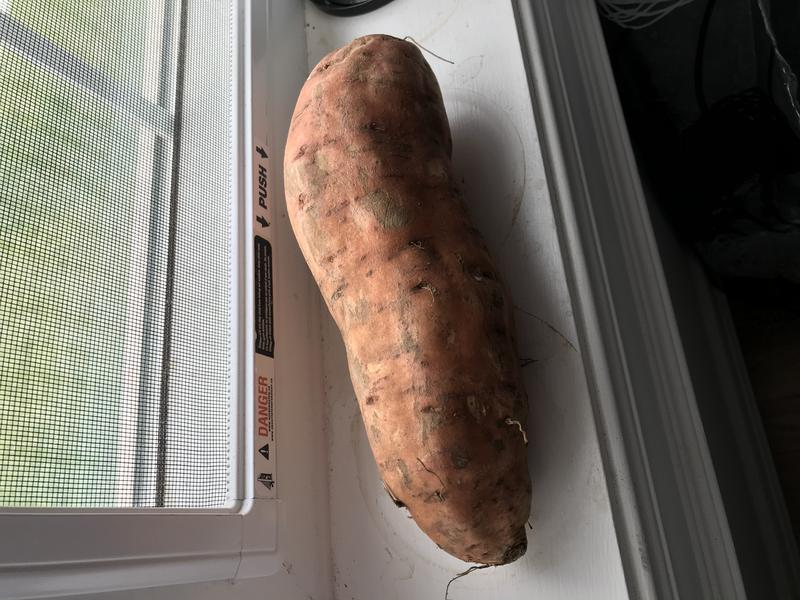sweet_potato: (270, 25, 541, 575)
